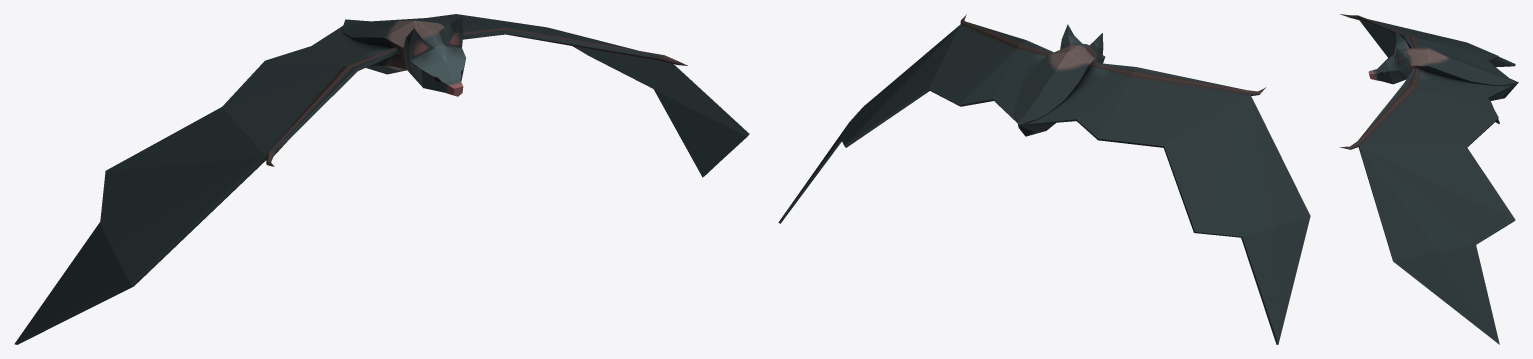
File: Bat.obj
3 renders of one model, left to right at view 1: azimuth 30°, elevation 25°; view 2: azimuth 150°, elevation 25°; view 3: azimuth 270°, elevation 25°, orthographic. The views are drawn at different scales.
Visible parts, largest first — view 1: Bat_mesh; view 2: Bat_mesh; view 3: Bat_mesh.
Boxes of the visible parts, x1,y1,x2,y2 form: Bat_mesh: (14, 14, 749, 344); Bat_mesh: (778, 14, 1310, 344); Bat_mesh: (1339, 14, 1518, 344).
Bounding box in the file's own units: 5.06 × 2.08 × 1.73.
1 material, 1 textured.
